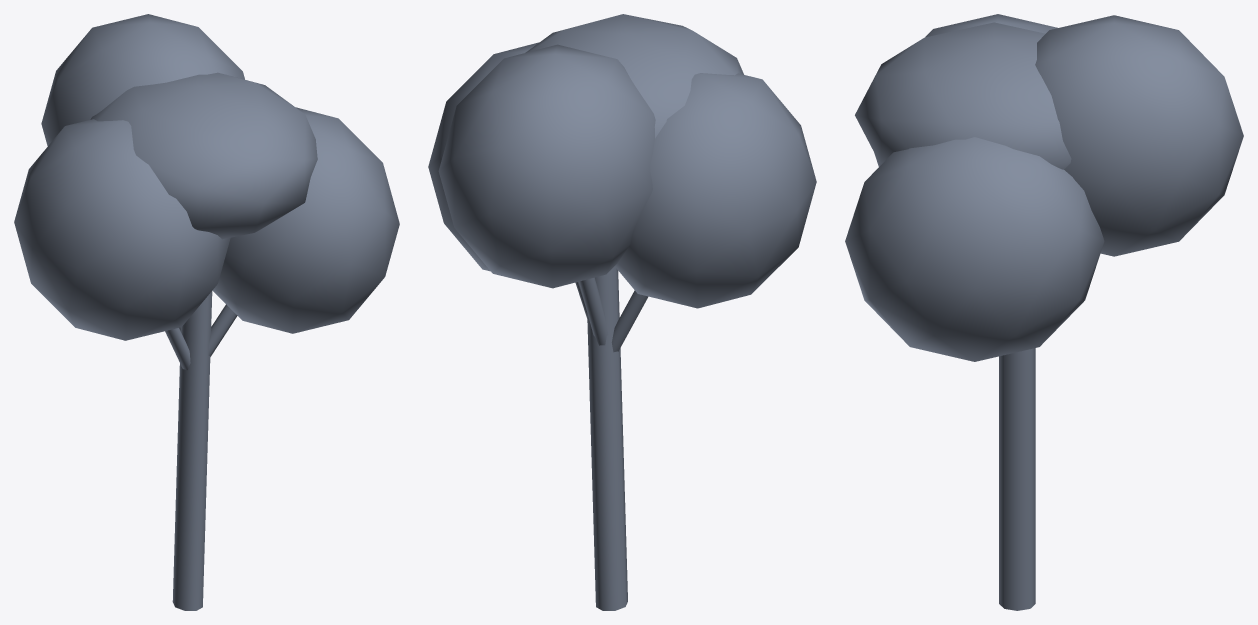
File: garden-tree-lite.glb
3 renders of one model, left to right at view 1: azimuth 30°, elevation 25°; view 2: azimuth 150°, elevation 25°; view 3: azimuth 270°, elevation 25°, orthographic. The views are drawn at different scales.
Parts seen in each view (by area): view 1: garden-tree; view 2: garden-tree; view 3: garden-tree.
Part boxes in pixels (x1,y1,x2,y2): garden-tree: (14,14,399,610); garden-tree: (428,14,816,610); garden-tree: (845,14,1243,610).
Size of the model in its own units: 2.2 by 3.4 by 2.1.
